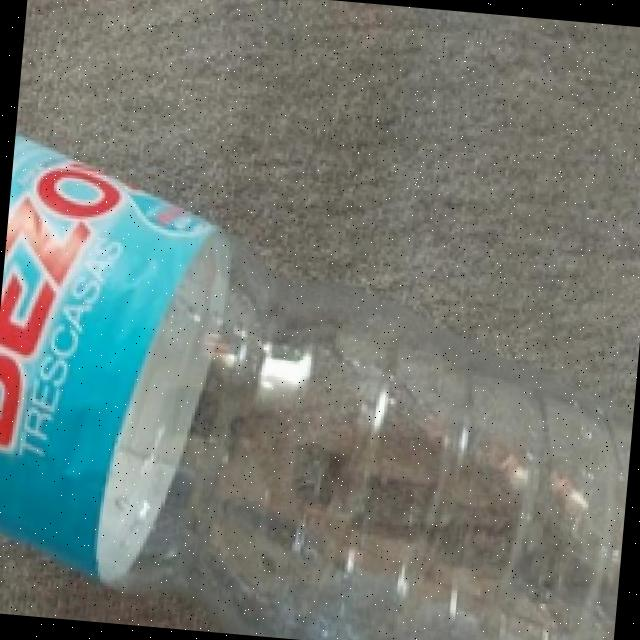bottle: (0, 132, 640, 640)
label: (0, 140, 220, 578)
